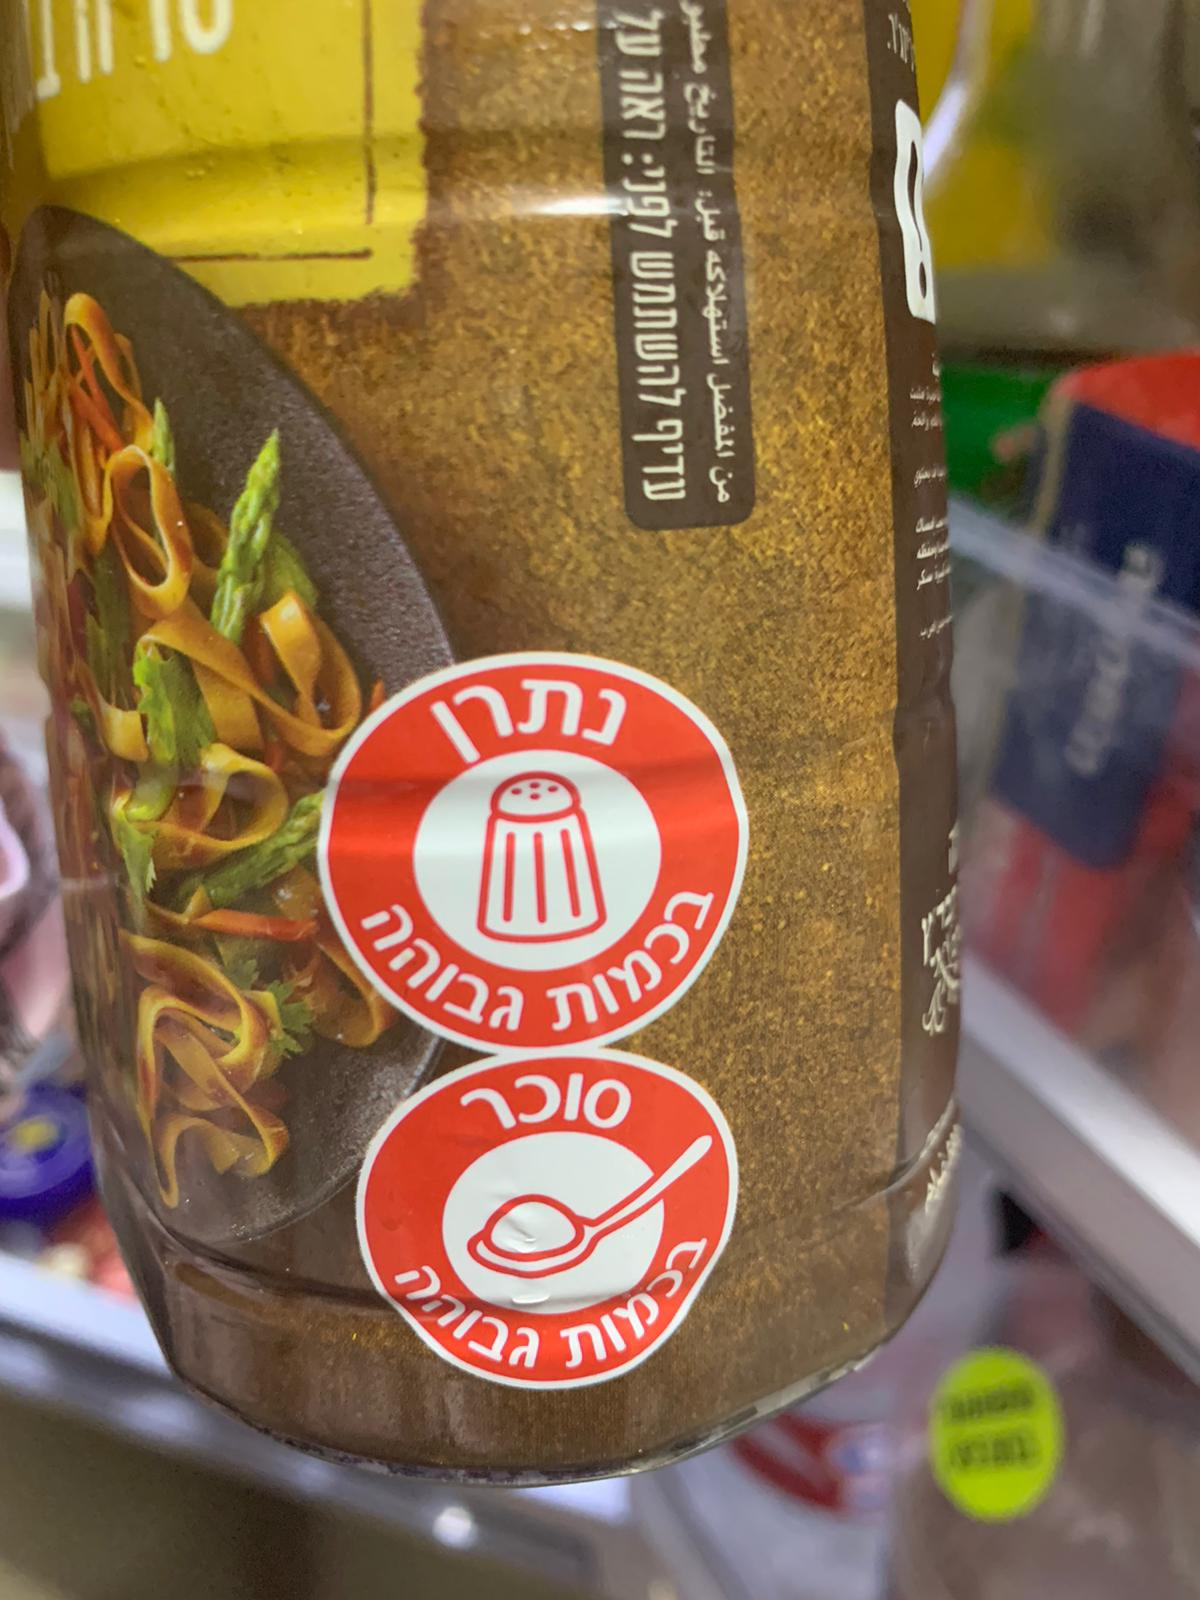salt: (316, 651, 751, 1058)
sugar: (352, 1053, 737, 1388)
